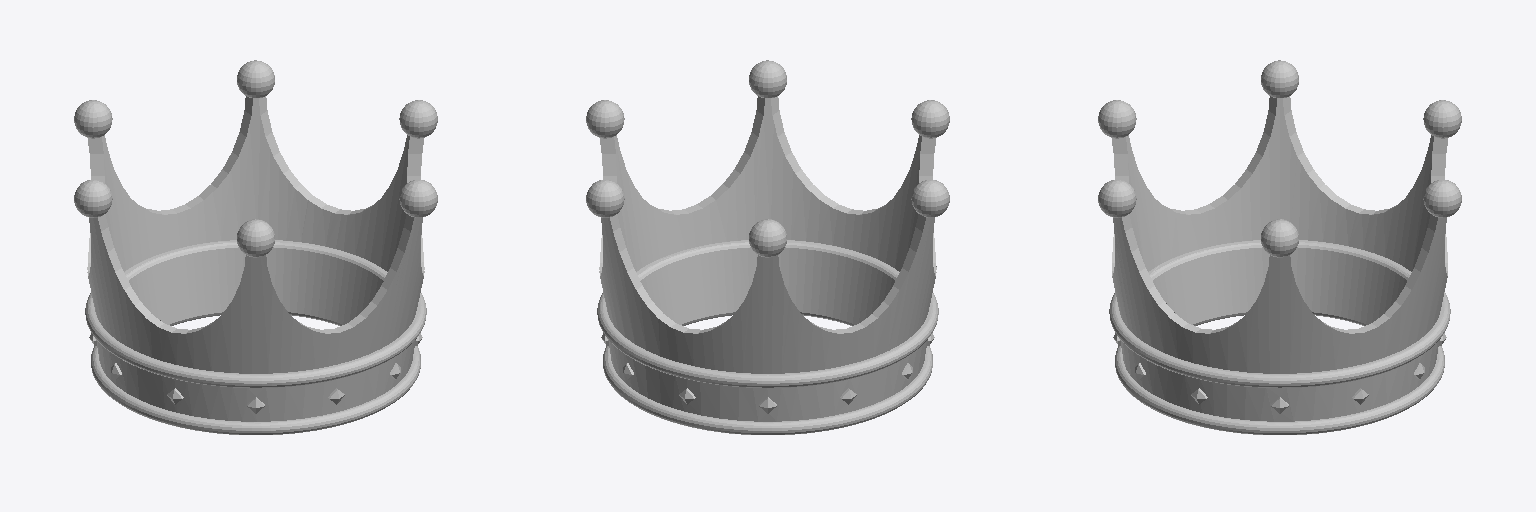
Rendered from crown.obj.
The picture shows the model from 3 angles: view 1: azimuth 30°, elevation 25°; view 2: azimuth 150°, elevation 25°; view 3: azimuth 270°, elevation 25°; orthographic projection.
Visible parts, largest first — view 1: Crown; view 2: Crown; view 3: Crown.
Boxes of the visible parts, x1=… form: Crown: x1=74, y1=60, x2=437, y2=434; Crown: x1=586, y1=60, x2=949, y2=434; Crown: x1=1098, y1=60, x2=1461, y2=434.
Bounding box in the file's own units: 6.15 × 3.75 × 5.4.